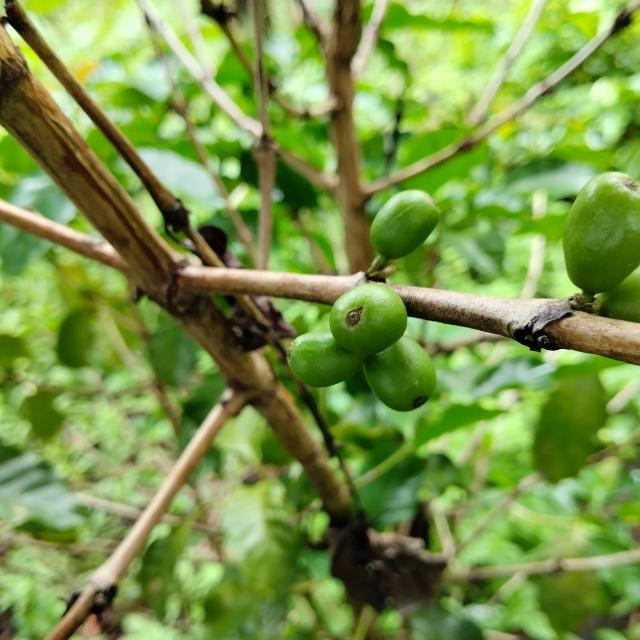green: (564, 171, 640, 294), (330, 283, 408, 356), (364, 335, 437, 412), (370, 189, 441, 259), (288, 329, 366, 388)
